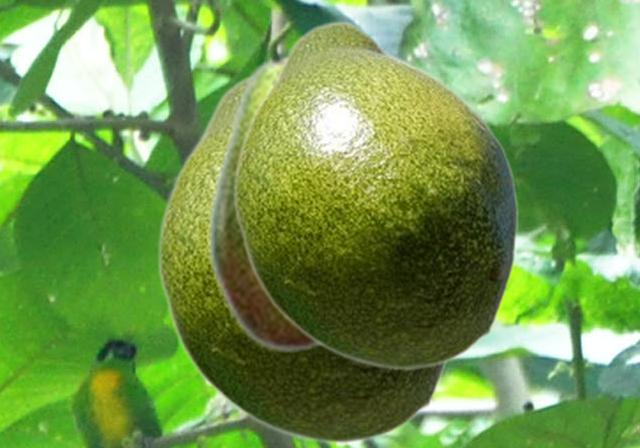avocado: (156, 71, 450, 445), (232, 20, 518, 371), (207, 52, 325, 354)
